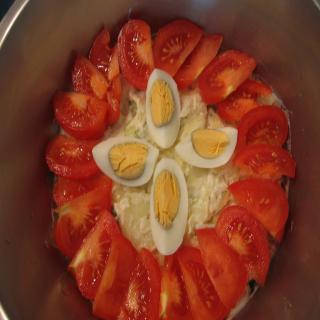tomato: (68, 208, 120, 300), (194, 228, 248, 311), (216, 205, 271, 284), (90, 230, 138, 320), (55, 182, 110, 258), (175, 245, 226, 320), (195, 49, 257, 106), (71, 54, 121, 123), (227, 180, 291, 233), (118, 246, 162, 320), (52, 87, 110, 138), (153, 18, 203, 76), (173, 32, 223, 90), (117, 19, 157, 90), (46, 134, 102, 180), (159, 253, 194, 320), (235, 104, 288, 148), (90, 28, 122, 100), (216, 80, 272, 121), (52, 176, 116, 210), (232, 146, 295, 180)
